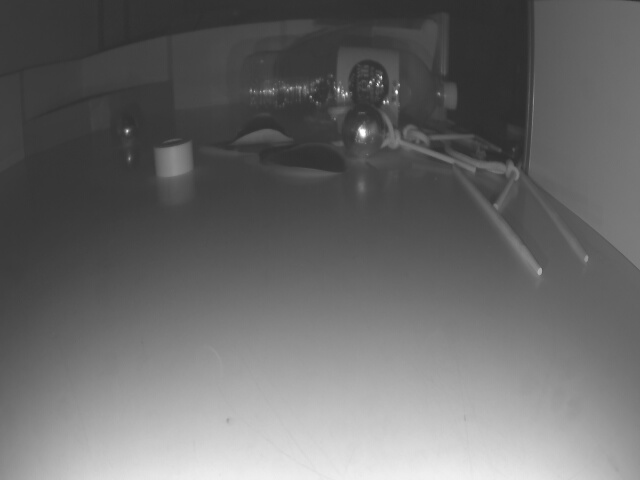Live: (345, 106, 383, 156), (117, 112, 137, 140)
Point: (25, 82, 172, 159)
